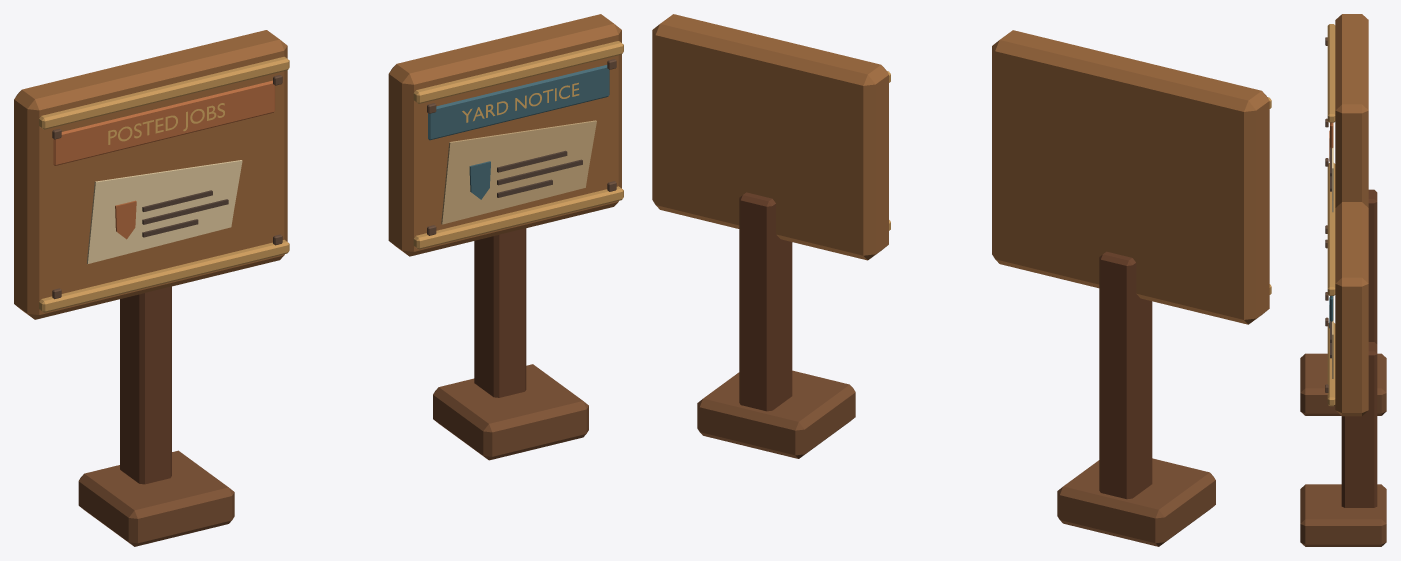
File: wsc-prop-007-contract-placards.glb
The picture shows the model from 3 angles, left to right: view 1: azimuth 30°, elevation 25°; view 2: azimuth 150°, elevation 25°; view 3: azimuth 270°, elevation 25°; orthographic projection. The views are drawn at different scales.
Parts seen in each view (by area): view 1: Contract placards; view 2: Contract placards; view 3: Contract placards.
Boxes of the visible parts, x1,y1,x2,y2 form: Contract placards: (14, 14, 623, 546); Contract placards: (652, 14, 1271, 546); Contract placards: (1300, 14, 1386, 546).
Bounding box in the file's own units: 1.33 × 0.955 × 0.22.
